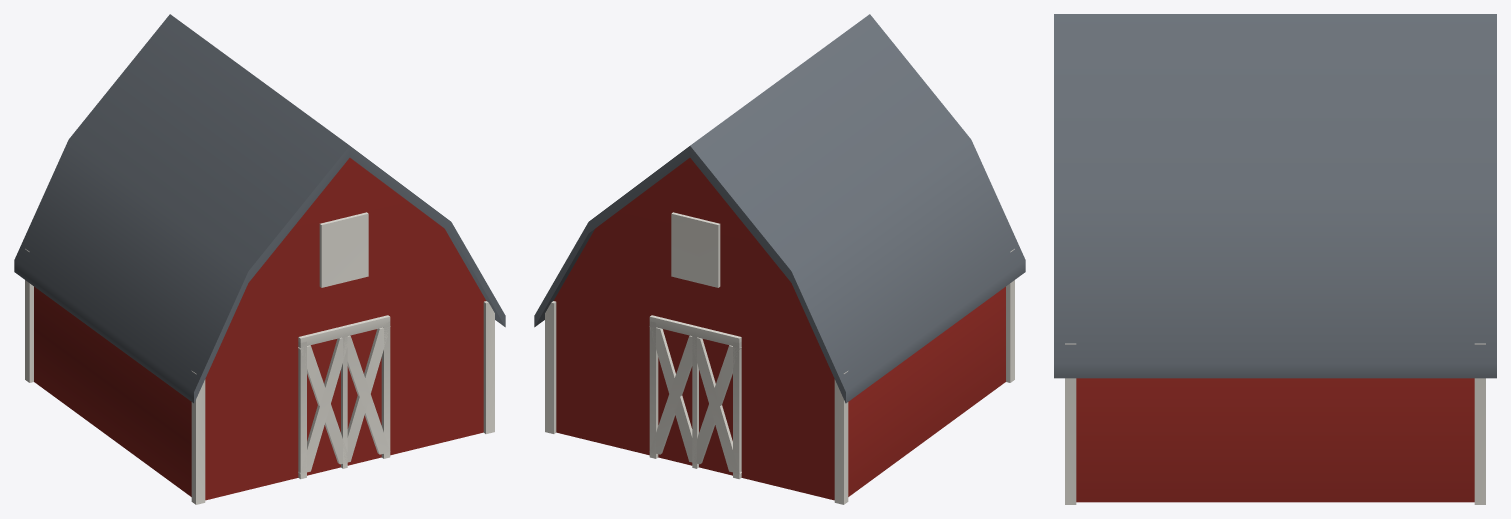
Rendered from barn.glb.
3 renders of one model, left to right at view 1: azimuth 30°, elevation 25°; view 2: azimuth 150°, elevation 25°; view 3: azimuth 270°, elevation 25°, orthographic. The views are drawn at different scales.
Visible parts, largest first — view 1: roof, hard, trim; view 2: roof, hard, trim; view 3: roof, hard, trim.
Boxes of the visible parts, <box> form: roof: <box>14,14,505,403</box>; hard: <box>34,158,486,500</box>; trim: <box>25,212,494,504</box>; roof: <box>534,14,1025,403</box>; hard: <box>553,158,1005,500</box>; trim: <box>545,212,1014,504</box>; roof: <box>1054,14,1496,378</box>; hard: <box>1076,378,1474,502</box>; trim: <box>1065,343,1485,504</box>.
Bounding box in the file's own units: 1 × 1 × 1.
